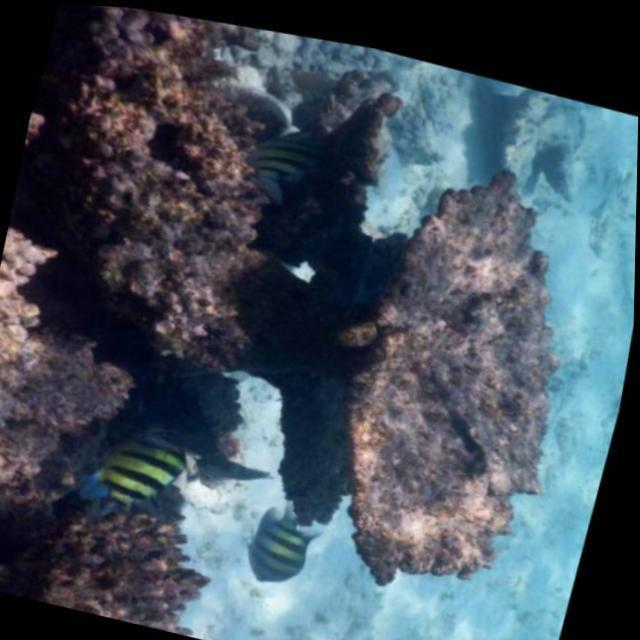Dead Coral: (340, 129, 639, 637), (0, 0, 271, 349), (0, 242, 156, 466), (22, 496, 223, 640)
